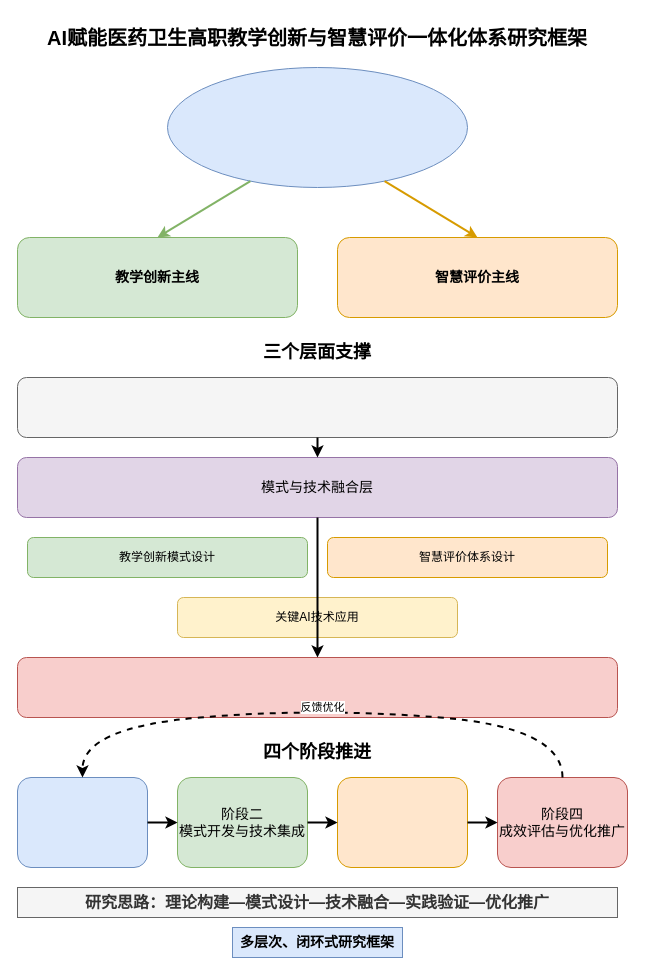
This 645x975 diagram has some shape labels left out. Each missing label, with the centre of its shape:
"一个核心目标 构建AI赋能的医药卫生高职教学创新与智慧评价一体化体系" goes at [317,127].
"实践应用与评估层" goes at [317,687].
"理论构建层" goes at [317,407].
"阶段一 理论准备与框架设计" goes at [82,822].
"阶段三 实践应用与数据收集" goes at [402,822].
